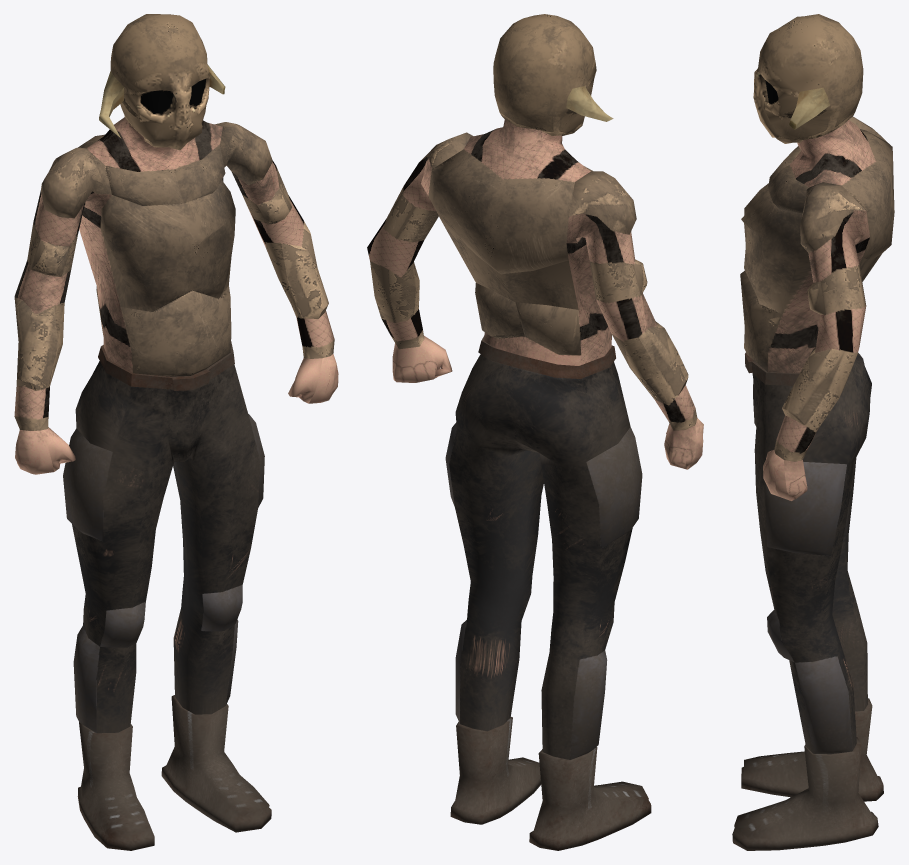
Rendered from Anim_cogerobjeto_npc1.0016.obj.
3 renders of one model, left to right at view 1: azimuth 30°, elevation 25°; view 2: azimuth 150°, elevation 25°; view 3: azimuth 270°, elevation 25°, orthographic.
Parts seen in each view (by area): view 1: NPC2; view 2: NPC2; view 3: NPC2.
Boxes of the visible parts, x1,y1,x2,y2 form: NPC2: (14,14,338,850); NPC2: (367,14,703,850); NPC2: (732,14,894,850).
Bounding box in the file's own units: 3.97 × 9.64 × 1.79.
